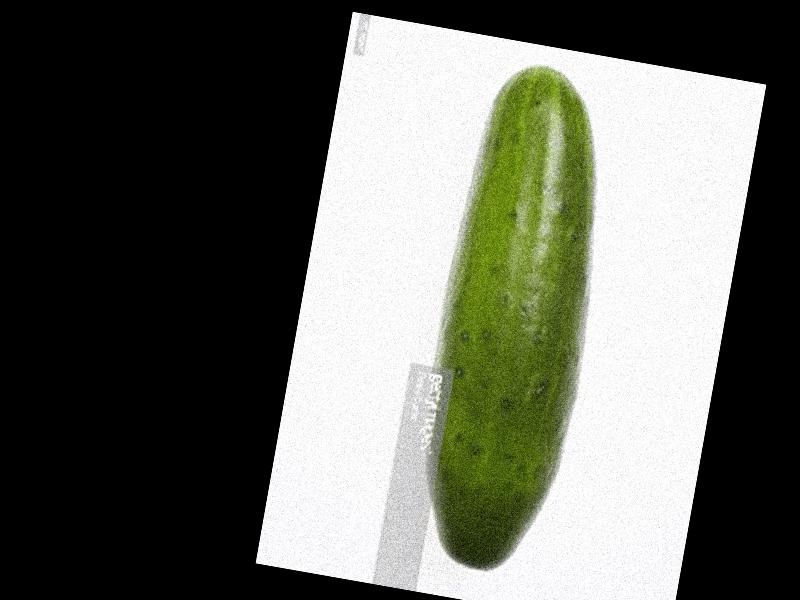Cucumber: (398, 53, 633, 586)
